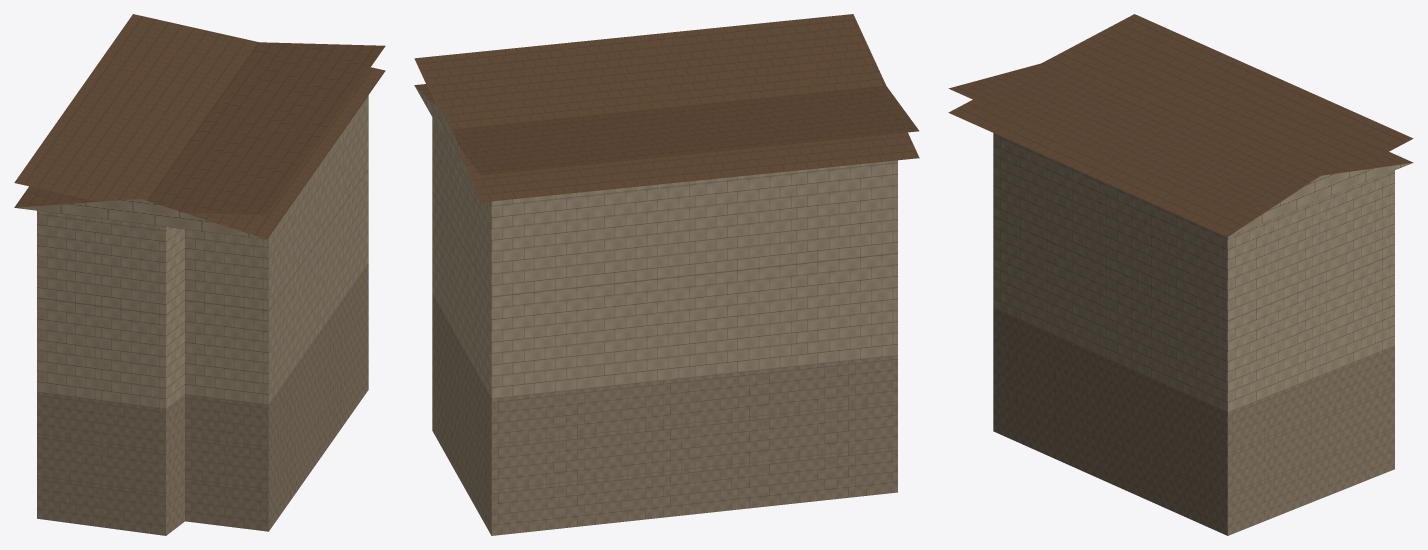
The model's file is bld_c41_48_191.gltf.
The picture shows the model from 3 angles, left to right: view 1: azimuth 30°, elevation 25°; view 2: azimuth 150°, elevation 25°; view 3: azimuth 270°, elevation 25°; orthographic projection. The views are drawn at different scales.
Parts seen in each view (by area): view 1: bld_c41_48_191; view 2: bld_c41_48_191; view 3: bld_c41_48_191.
Boxes of the visible parts, <box> form: bld_c41_48_191: <box>14,14,385,535</box>; bld_c41_48_191: <box>414,14,919,535</box>; bld_c41_48_191: <box>948,14,1413,535</box>.
Size of the model in its own units: 17.69 by 13.7 by 17.47.
Materials: 4 (4 with a texture image).
